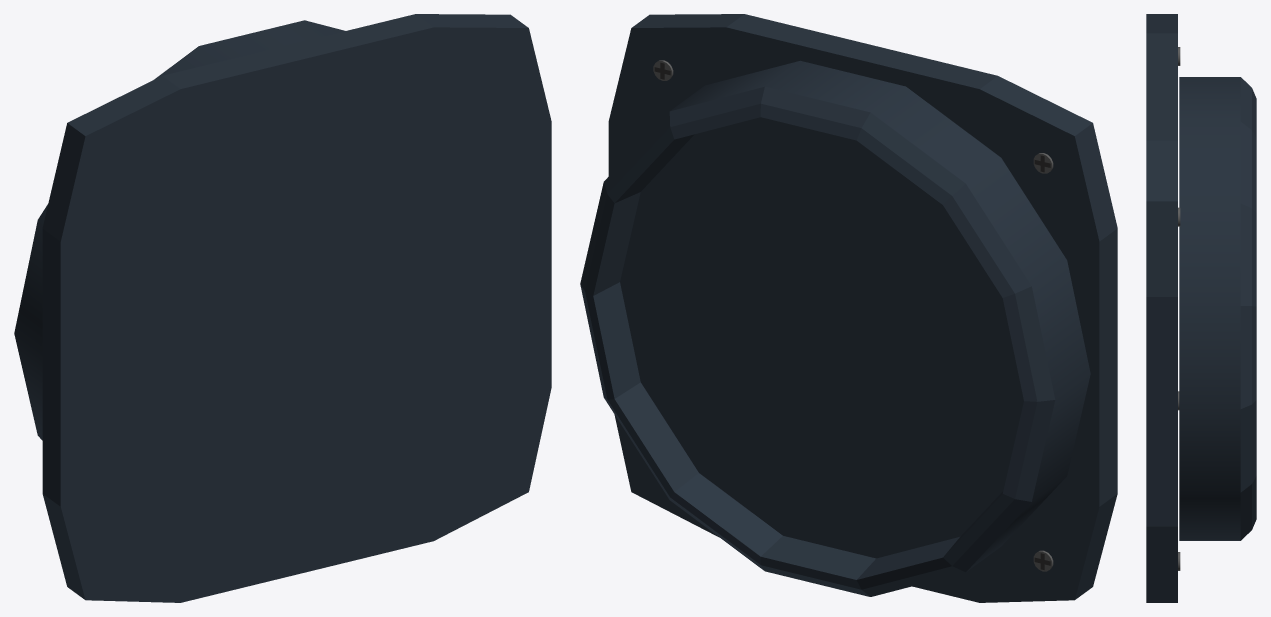
Rendered from Base Generica_01.obj.
3 views of the same model, side by side, from view 1: azimuth 30°, elevation 25°; view 2: azimuth 150°, elevation 25°; view 3: azimuth 270°, elevation 25° (orthographic). The views are drawn at different scales.
Visible parts, largest first — view 1: Base Tornillos, Base Generica; view 2: Base Generica, Base Tornillos; view 3: Base Generica, Base Tornillos.
Part boxes in pixels (<box>): Base Tornillos: <box>42,14,551,602</box>; Base Generica: <box>14,20,344,440</box>; Base Generica: <box>580,60,1090,596</box>; Base Tornillos: <box>608,14,1117,602</box>; Base Generica: <box>1179,77,1256,540</box>; Base Tornillos: <box>1146,14,1177,602</box>.
Size of the model in its own units: 0.155 by 0.155 by 0.0348.
